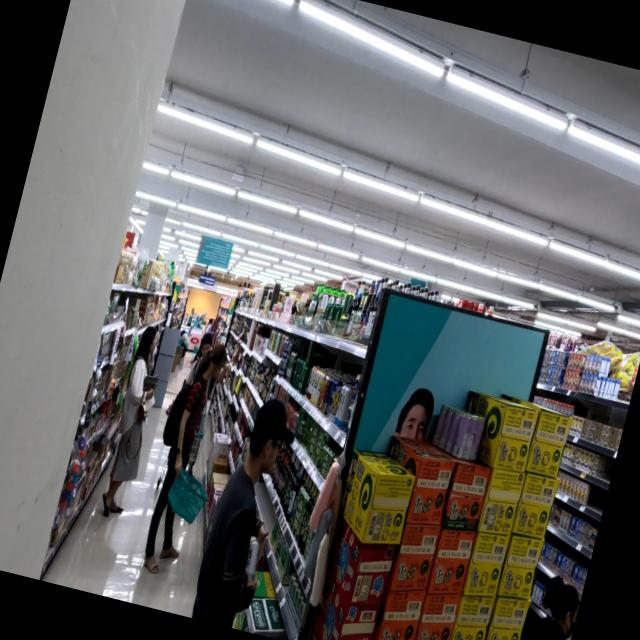shoplifting: (182, 387, 306, 632)
